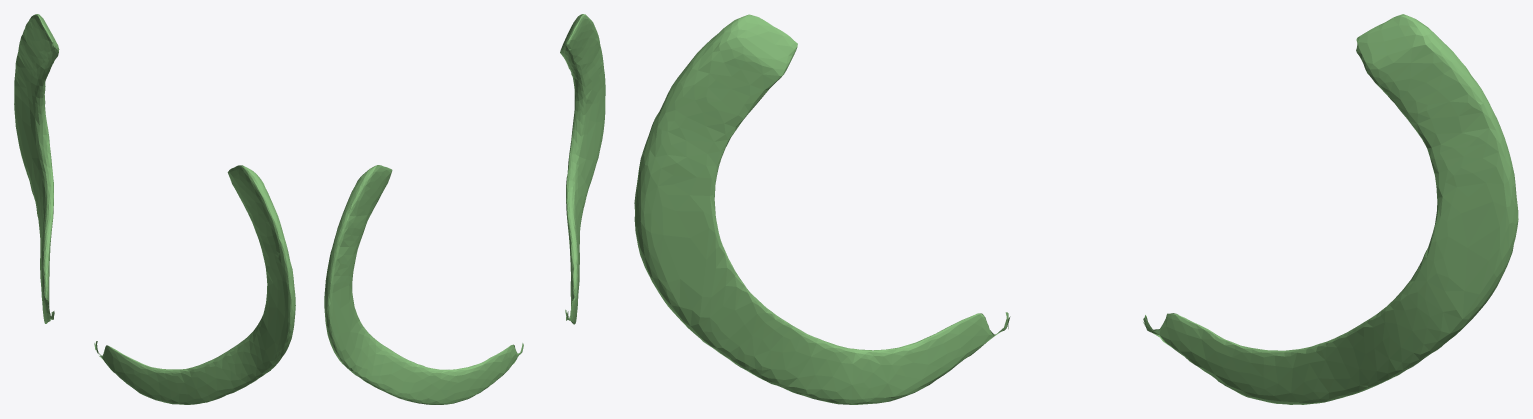
3 views of the same model, side by side, from view 1: azimuth 30°, elevation 25°; view 2: azimuth 150°, elevation 25°; view 3: azimuth 270°, elevation 25° (orthographic). The views are drawn at different scales.
Parts seen in each view (by area): view 1: 484682470.obj; view 2: 484682470.obj; view 3: 484682470.obj.
Boxes of the visible parts, left/top/right/bottom form: 484682470.obj: left=14, top=14, right=295, bottom=404; 484682470.obj: left=324, top=14, right=605, bottom=404; 484682470.obj: left=634, top=14, right=1518, bottom=404.
Bounding box in the file's own units: 1528 × 4289 × 8269.
